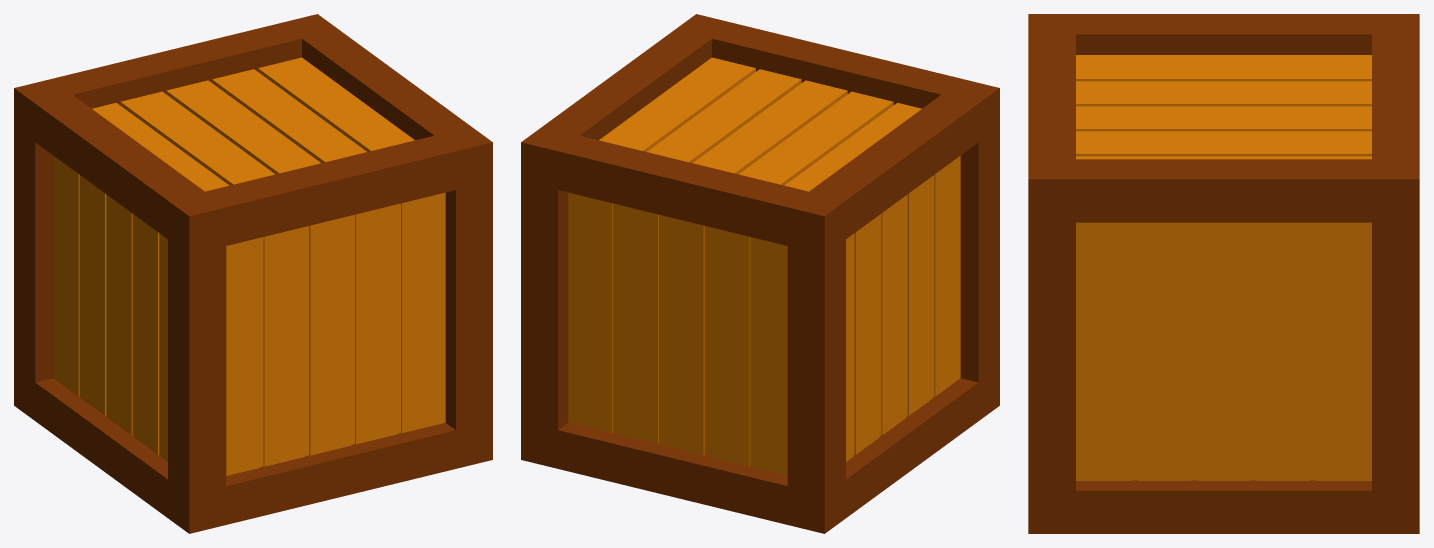
Rendered from woodbox_002.glb.
3 renders of one model, left to right at view 1: azimuth 30°, elevation 25°; view 2: azimuth 150°, elevation 25°; view 3: azimuth 270°, elevation 25°, orthographic. The views are drawn at different scales.
Visible parts, largest first — view 1: woodbox_002; view 2: woodbox_002; view 3: woodbox_002.
Boxes of the visible parts, x1=… form: woodbox_002: x1=14, y1=14, x2=492, y2=533; woodbox_002: x1=521, y1=14, x2=999, y2=533; woodbox_002: x1=1028, y1=14, x2=1419, y2=533.
Size of the model in its own units: 0.2093 by 0.2093 by 0.2093.
